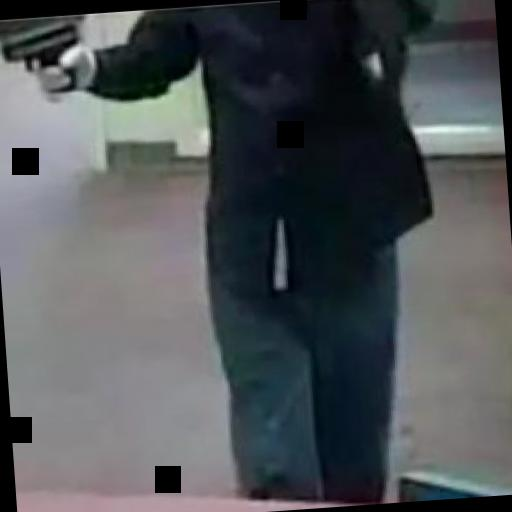Handgun: (0, 16, 82, 96)
